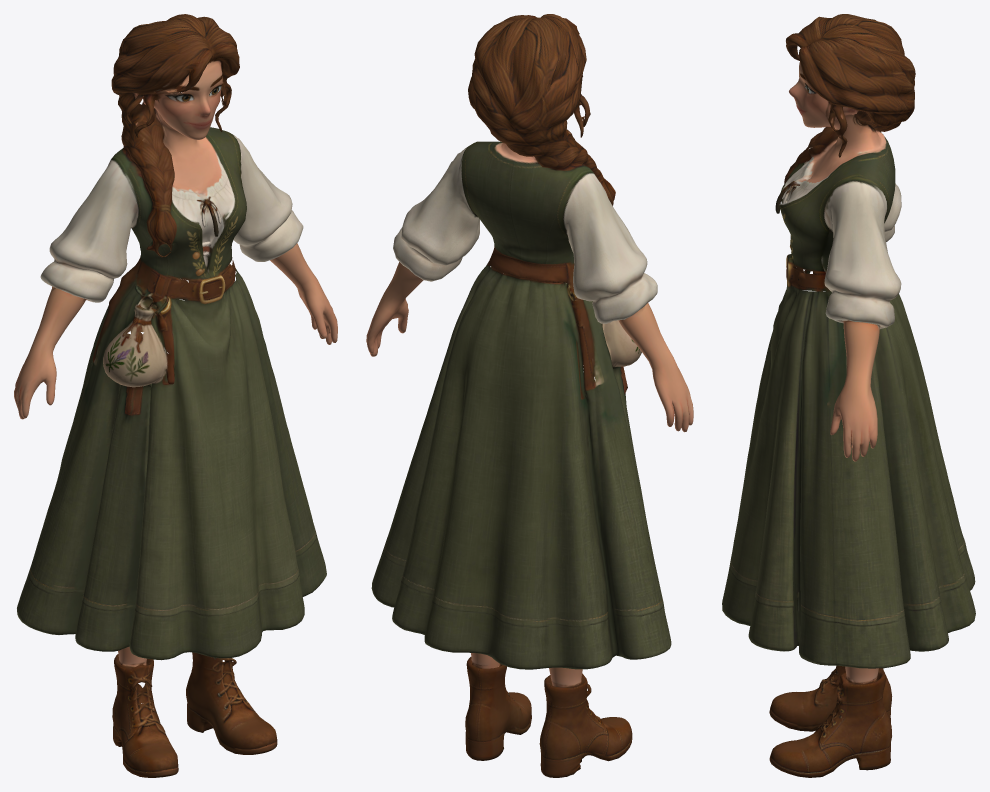
Rendered from defne.glb.
The picture shows the model from 3 angles, left to right: view 1: azimuth 30°, elevation 25°; view 2: azimuth 150°, elevation 25°; view 3: azimuth 270°, elevation 25°; orthographic projection.
Parts seen in each view (by area): view 1: tripo_node_6bacb0fc; view 2: tripo_node_6bacb0fc; view 3: tripo_node_6bacb0fc.
Boxes of the visible parts, x1,y1,x2,y2 form: tripo_node_6bacb0fc: (14,14,337,777); tripo_node_6bacb0fc: (366,14,693,777); tripo_node_6bacb0fc: (722,14,975,777).
Bounding box in the file's own units: 44.66 × 97.89 × 31.01.
Materials: 1 (1 with a texture image).
